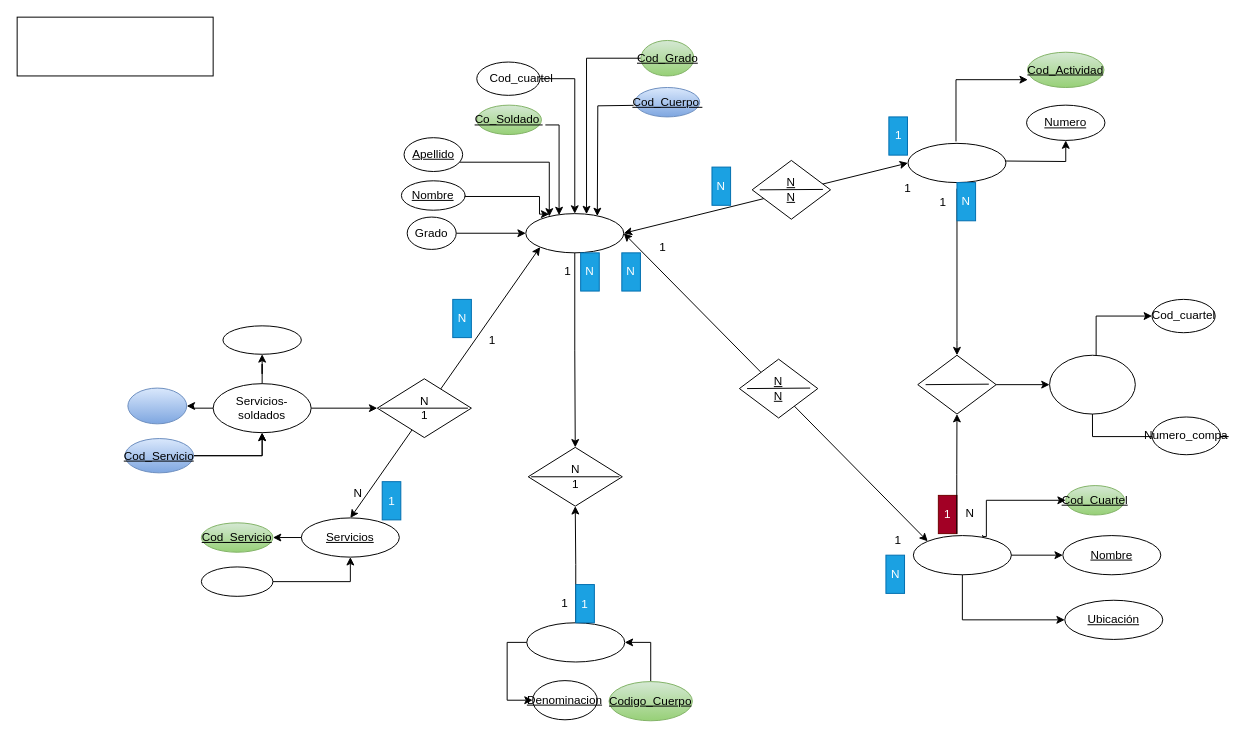
The diagram is 1253 pixels wide and 738 high, and some of its shapes have lost their labels. The shapes that lost their labels are listed below. From the top down, each one's box as (x1, y1, x2, y2) in pixels, then its label:
(16, 16, 213, 76): Entity relations-SOLDADO
(907, 142, 1006, 183): Compañias
(525, 213, 624, 253): Soldado
(222, 325, 301, 354): Fecha
(917, 354, 996, 414): N M
(1049, 354, 1135, 414): Compañias_cuarteles
(127, 387, 187, 424): Cod_Soldado
(912, 535, 1011, 575): Cuarteles
(200, 566, 273, 596): Actividad
(526, 622, 625, 662): Cuerpo de Ejercito
